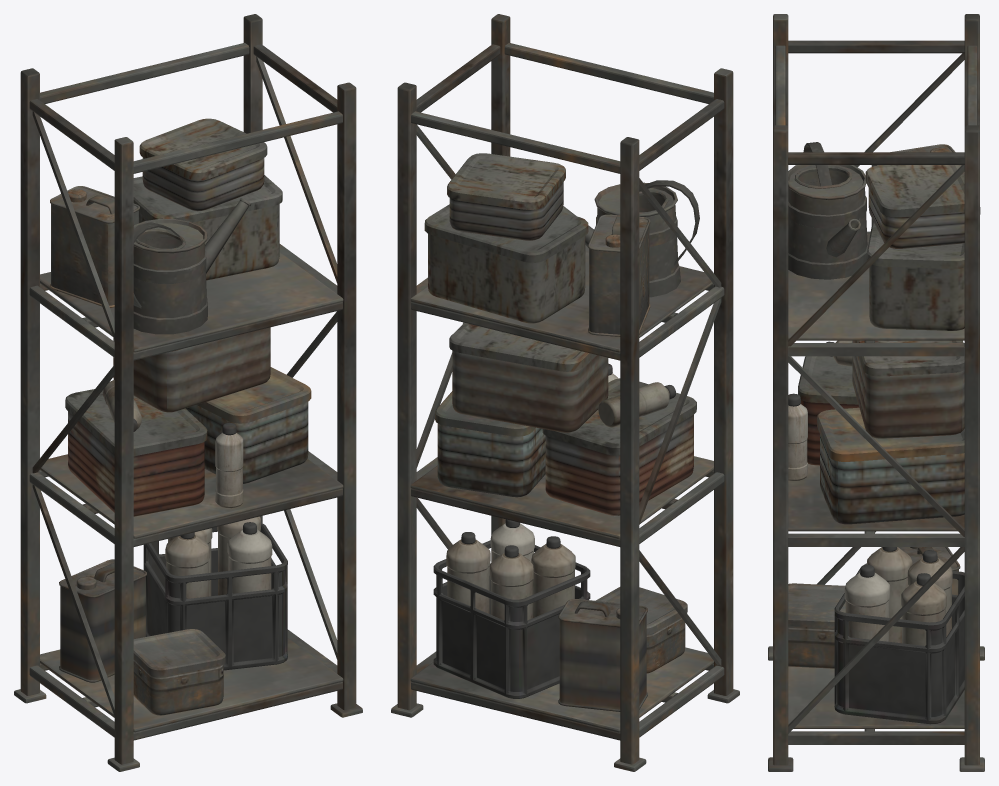
The model's file is structure_003.glb.
3 views of the same model, side by side, from view 1: azimuth 30°, elevation 25°; view 2: azimuth 150°, elevation 25°; view 3: azimuth 270°, elevation 25° (orthographic). The views are drawn at different scales.
Parts seen in each view (by area): view 1: Building_12_003; view 2: Building_12_003; view 3: Building_12_003.
Part boxes in pixels (left/top/right/bottom): Building_12_003: left=14, top=14, right=362, bottom=771; Building_12_003: left=391, top=14, right=739, bottom=771; Building_12_003: left=768, top=14, right=984, bottom=771.
Size of the model in its own units: 2.04 by 4.97 by 1.53.
1 material, 1 textured.
